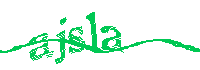a: (29, 32, 54, 63), (99, 24, 124, 54)
j: (56, 15, 67, 66)
l: (86, 8, 100, 56)
s: (67, 25, 87, 57)
